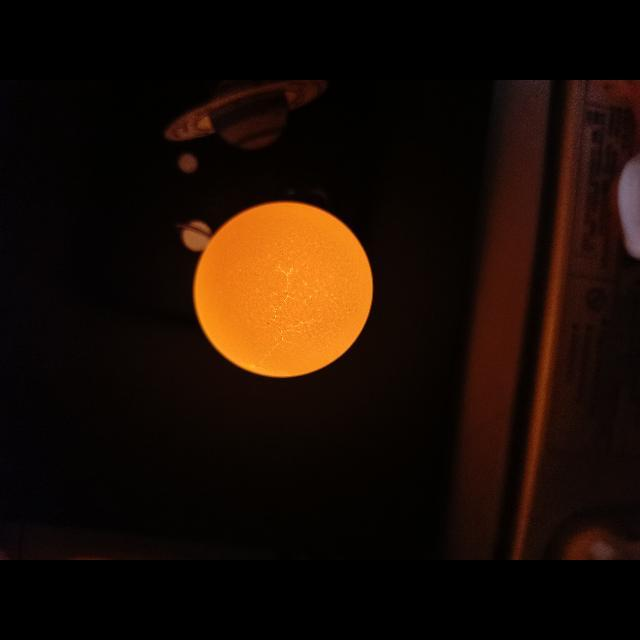AA - Premium: (194, 201, 373, 378)
